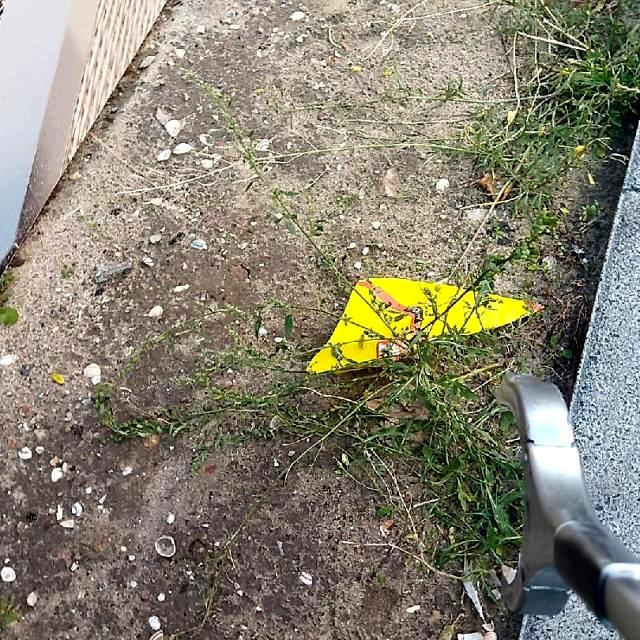Paper: (302, 274, 546, 374)
